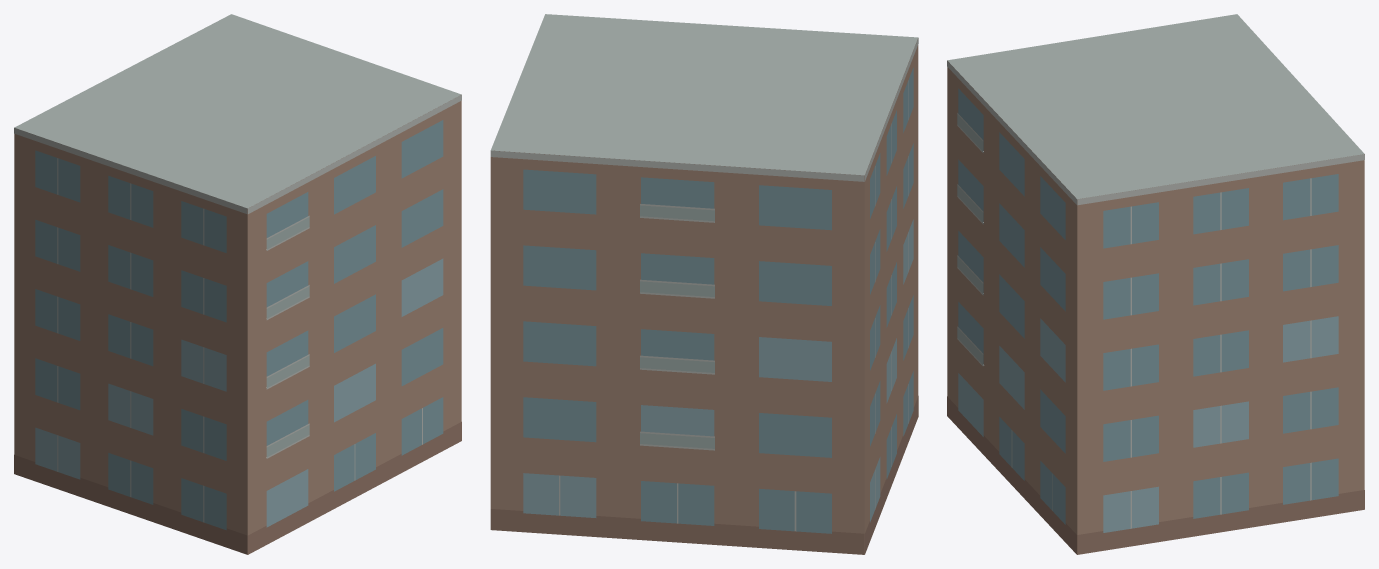
Rendered from survey-upis-32849931.glb.
3 renders of one model, left to right at view 1: azimuth 30°, elevation 25°; view 2: azimuth 150°, elevation 25°; view 3: azimuth 270°, elevation 25°, orthographic. The views are drawn at different scales.
Parts seen in each view (by area): view 1: survey-upis-32849931.tmp; view 2: survey-upis-32849931.tmp; view 3: survey-upis-32849931.tmp.
Boxes of the visible parts, x1,y1,x2,y2 form: survey-upis-32849931.tmp: (14, 14, 461, 554); survey-upis-32849931.tmp: (490, 14, 918, 554); survey-upis-32849931.tmp: (947, 14, 1364, 554).
Size of the model in its own units: 15.87 by 14.2 by 15.12.
